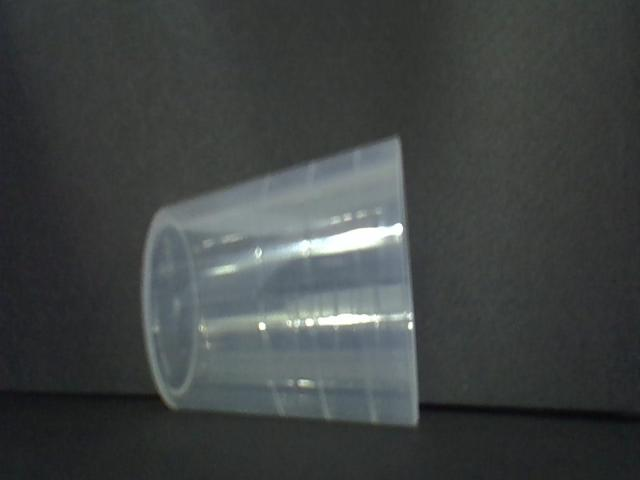cup: (139, 129, 432, 436)
